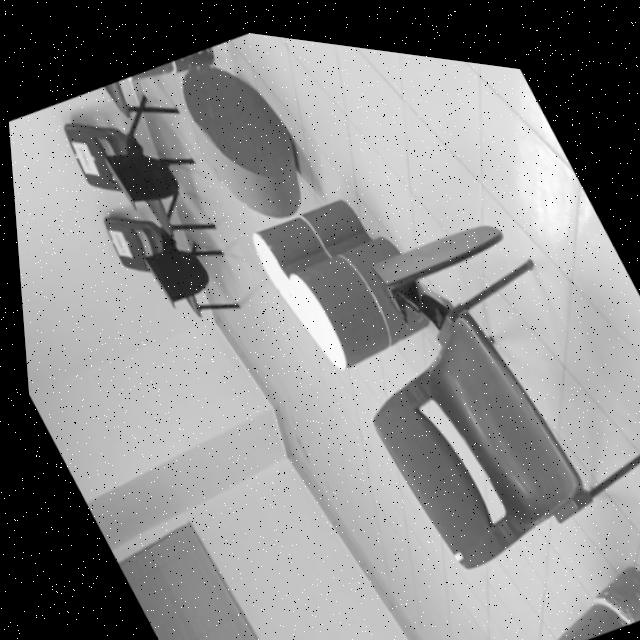sandalye: (366, 243, 640, 555), (62, 89, 211, 228), (100, 211, 234, 311)
